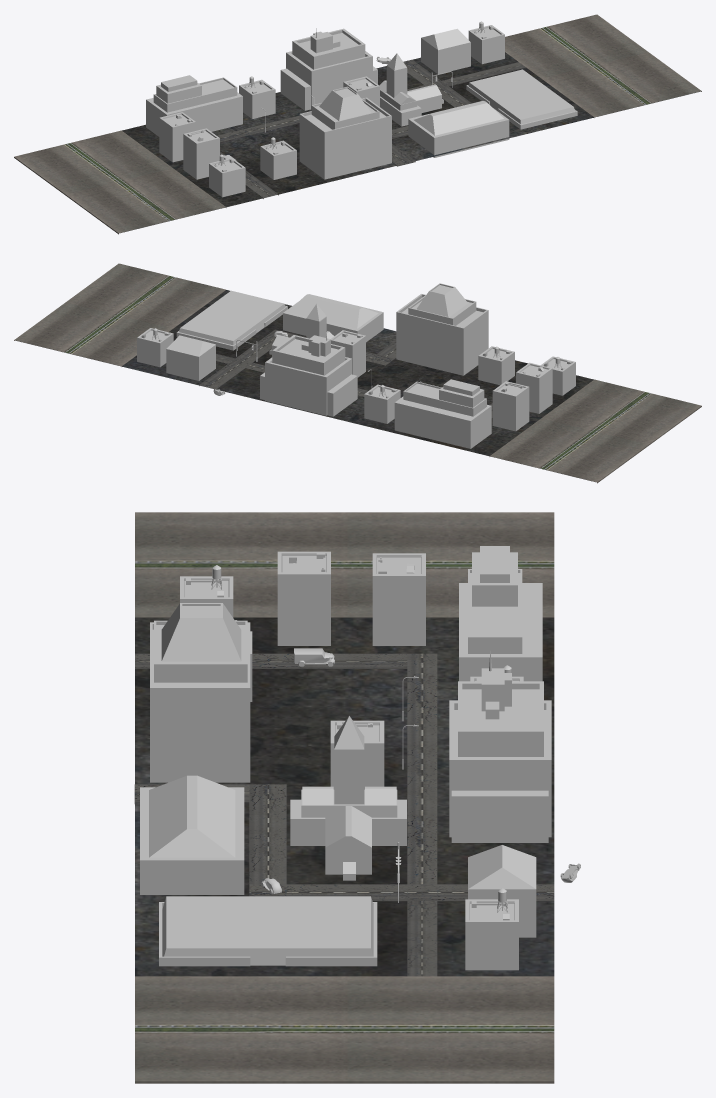
Rendered from Block_14.fbx.
3 renders of one model, top to bottom at view 1: azimuth 30°, elevation 25°; view 2: azimuth 150°, elevation 25°; view 3: azimuth 270°, elevation 25°, orthographic. The views are drawn at different scales.
Visible parts, largest first — view 1: pasted__polySurface1350; view 2: pasted__polySurface1350; view 3: pasted__polySurface1350.
Part boxes in pixels (<box>): pasted__polySurface1350: <box>14,14,701,234</box>; pasted__polySurface1350: <box>14,263,701,483</box>; pasted__polySurface1350: <box>134,512,580,1083</box>.
Bounding box in the file's own units: 459 × 152 × 55.51.
